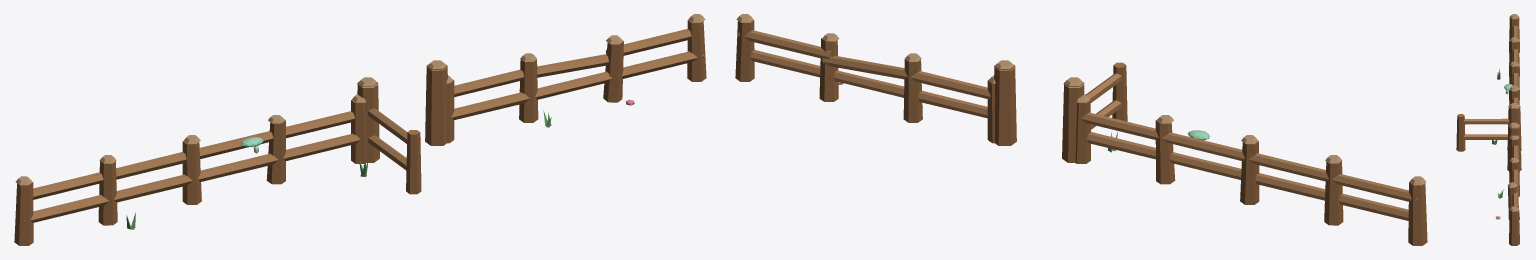
Rendered from ranch_border_fence_long.fbx.
3 renders of one model, left to right at view 1: azimuth 30°, elevation 25°; view 2: azimuth 150°, elevation 25°; view 3: azimuth 270°, elevation 25°, orthographic. The views are drawn at different scales.
Parts seen in each view (by area): view 1: ranch_border_fence_long; view 2: ranch_border_fence_long; view 3: ranch_border_fence_long.
Part boxes in pixels (box(x1,y1,x2,y2)): ranch_border_fence_long: box(14, 14, 706, 245); ranch_border_fence_long: box(735, 14, 1427, 245); ranch_border_fence_long: box(1456, 14, 1521, 245).
Bounding box in the file's own units: 51.07 × 5.61 × 7.18.
